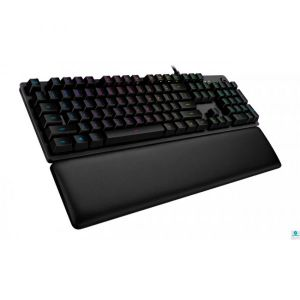keyboard: (13, 70, 288, 236)
